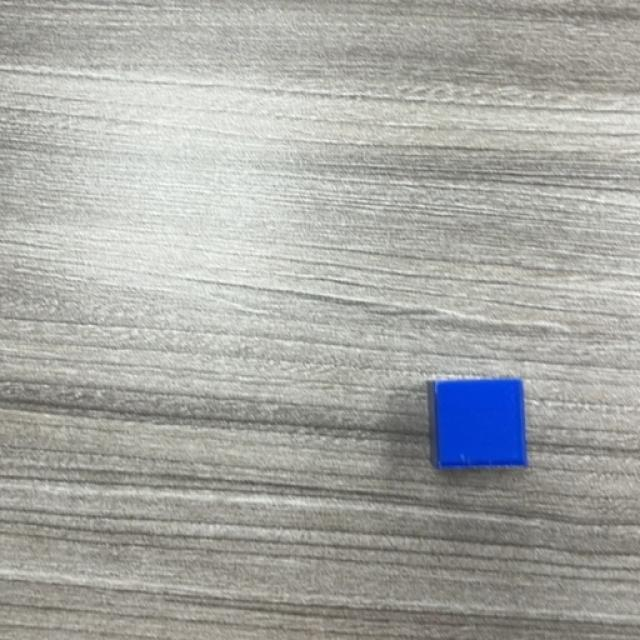Azul: (426, 379, 528, 471)
